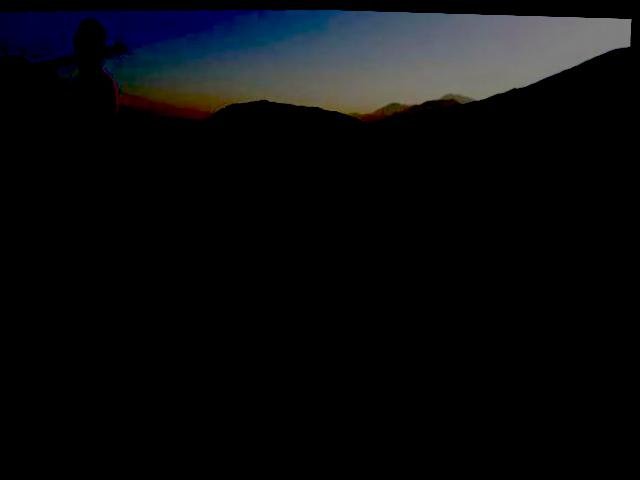iha: (0, 38, 126, 87)
